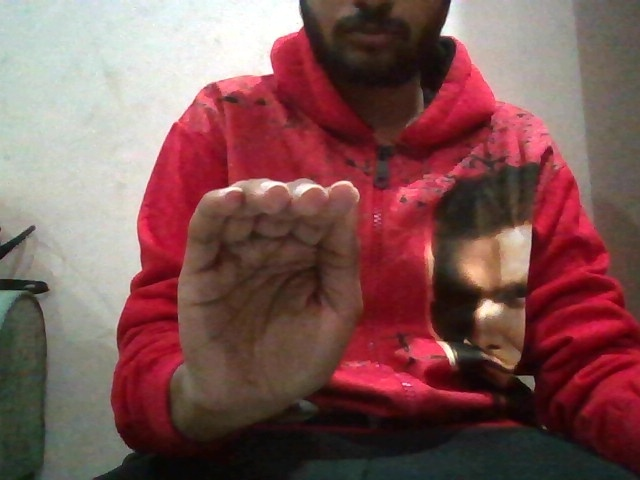C: (168, 165, 368, 410)
